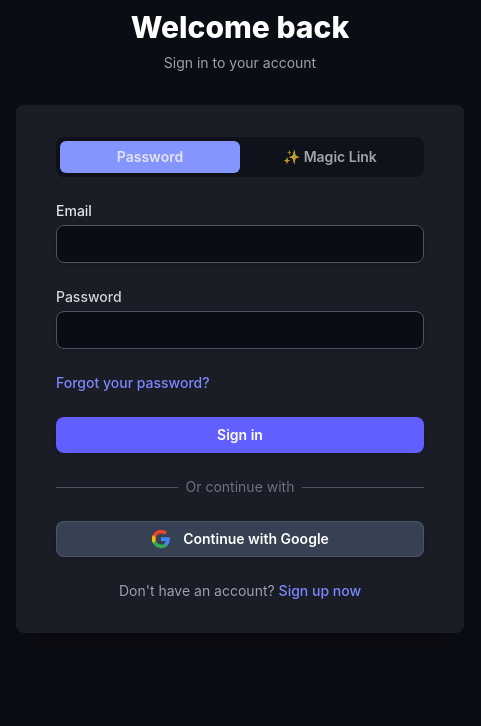
UserLoginForm Component › displays error message when server responds with 401 unauthorized
Type "alice@example.com" into the field labelled "Email" at (240, 244), box left=56, top=225, right=424, bottom=263
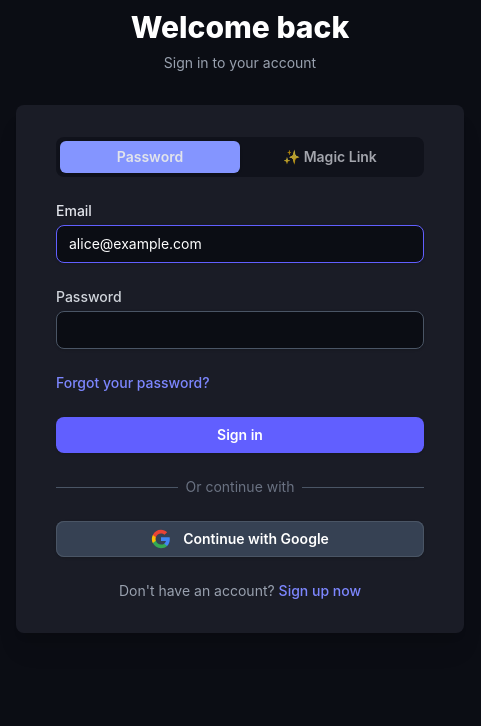
Type "WrongPassword!" into the password field labelled "Password" at (240, 330), box left=56, top=311, right=424, bottom=349
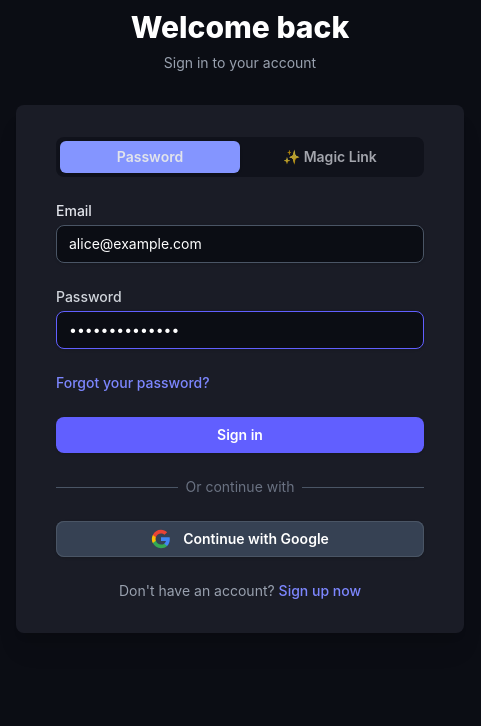
Click the button "Sign in" at (240, 435), box left=56, top=417, right=424, bottom=453
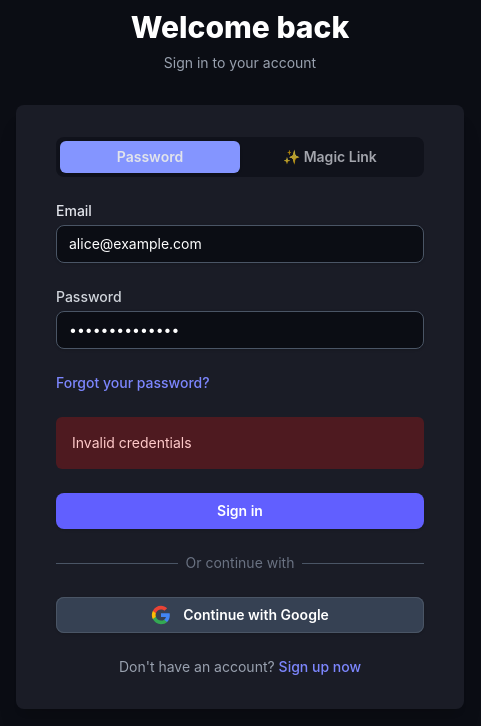
Expected: the text "Invalid credentials" is shown, left=72, top=434, right=192, bottom=451
